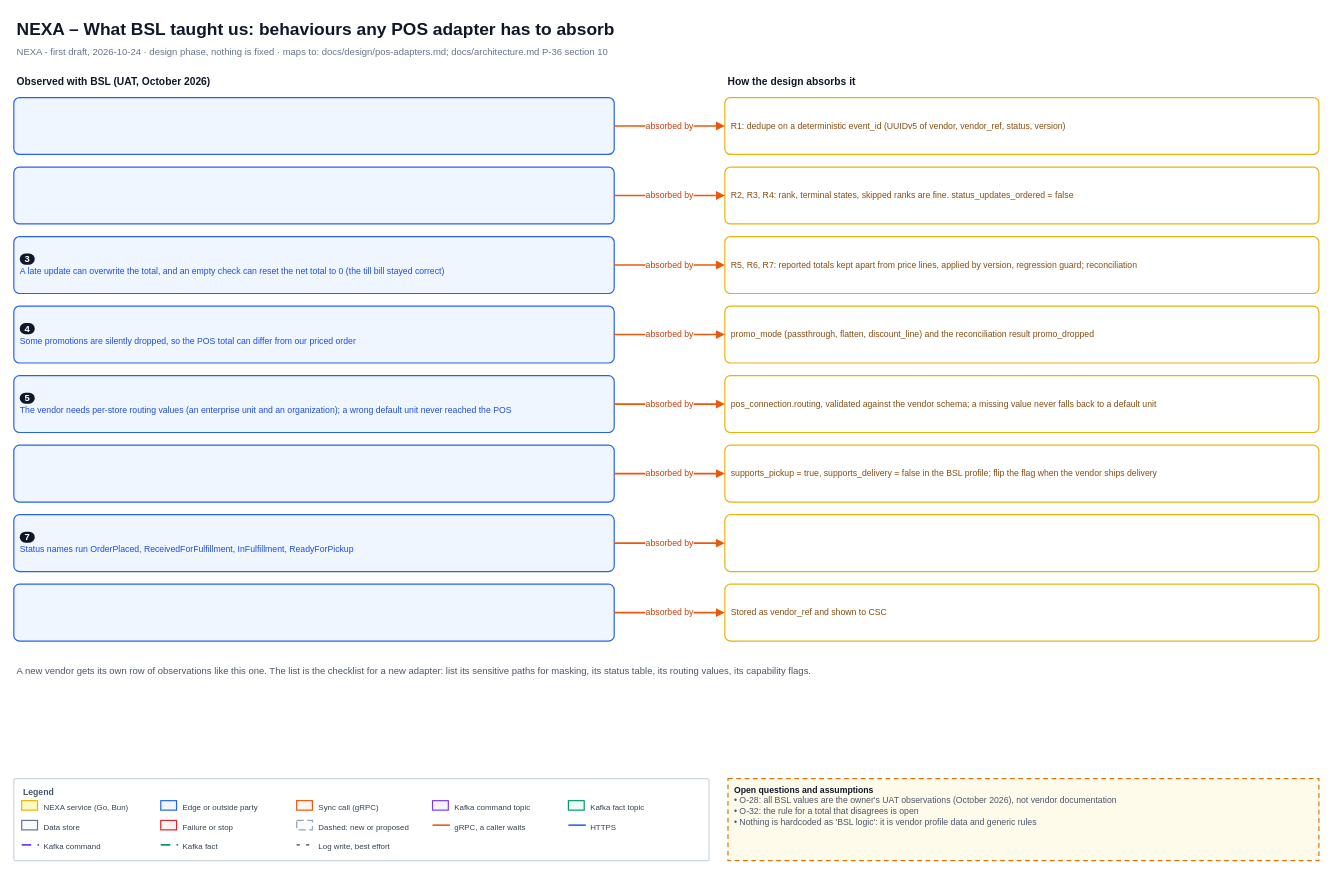
This 1334x875 diagram has some shape labels left out. The centre of each missing label's shape, as x and y in pixels:
"1 Status webhooks arrive within about a second, and some are duplicated" goes at point (313, 126).
"2 Updates can arrive out of order" goes at point (313, 195).
"6 Pickup works. Delivery is not available yet" goes at point (313, 473).
"8 A short reference on the till slip matches the vendor's reference" goes at point (313, 612).
"The BSL mapper table to canonical submitted, received, in_progress, ready" goes at point (1021, 543).
